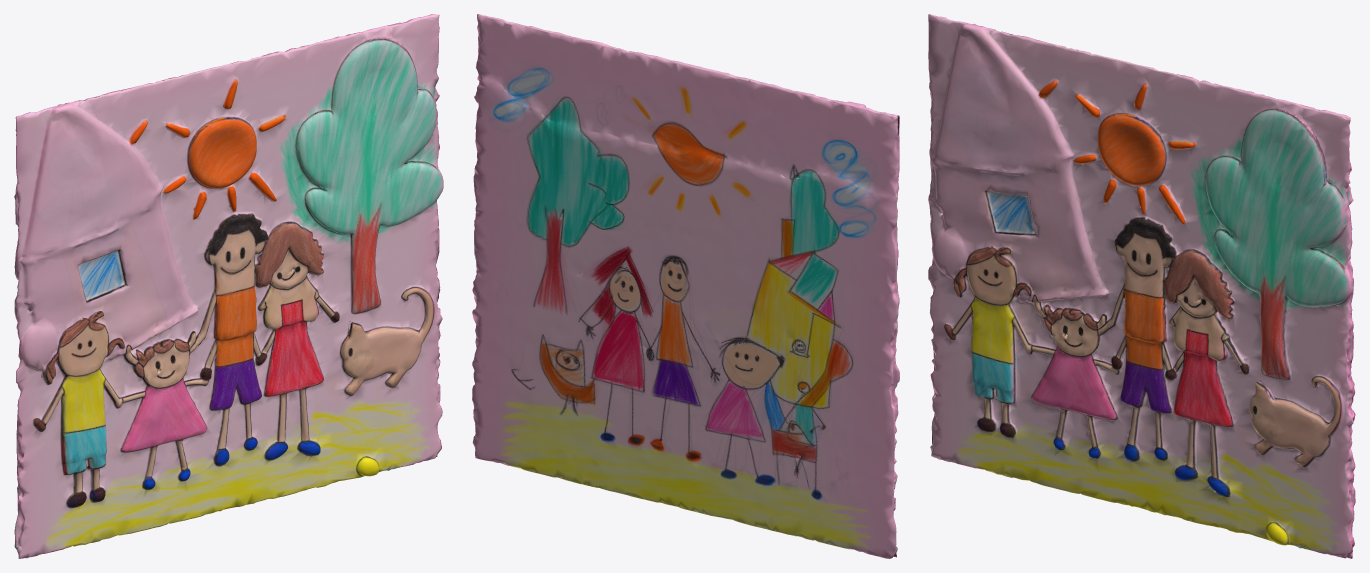
The picture shows the model from 3 angles, left to right: view 1: azimuth 30°, elevation 25°; view 2: azimuth 150°, elevation 25°; view 3: azimuth 330°, elevation 25°; orthographic projection.
Size of the model in its own units: 1.91 by 1.91 by 0.0578.
Materials: 1 (1 with a texture image).
